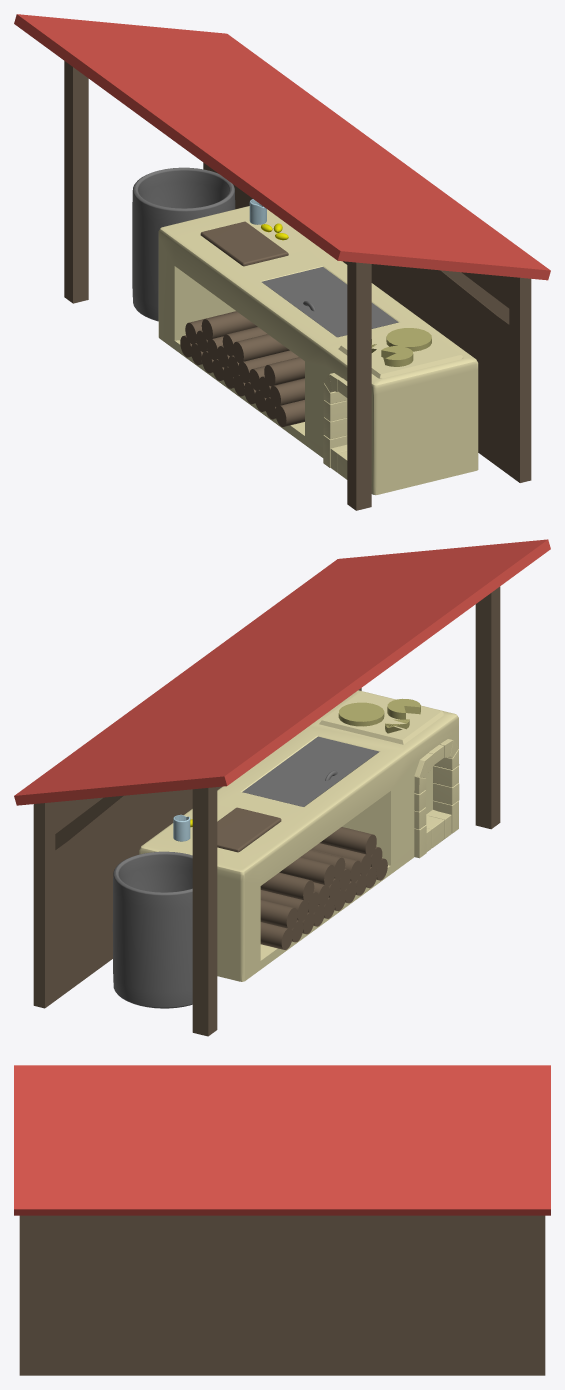
The model's file is Kitchen BUnt new.fbx.
The picture shows the model from 3 angles, top to bottom: view 1: azimuth 30°, elevation 25°; view 2: azimuth 150°, elevation 25°; view 3: azimuth 270°, elevation 25°; orthographic projection. The views are drawn at different scales.
Parts seen in each view (by area): view 1: polySurface30; view 2: polySurface30; view 3: polySurface30.
Part boxes in pixels (x1,y1,x2,y2): polySurface30: (14, 14, 550, 510); polySurface30: (14, 539, 550, 1036); polySurface30: (14, 1065, 550, 1375).
Bounding box in the file's own units: 2.02 × 2.53 × 5.32.
